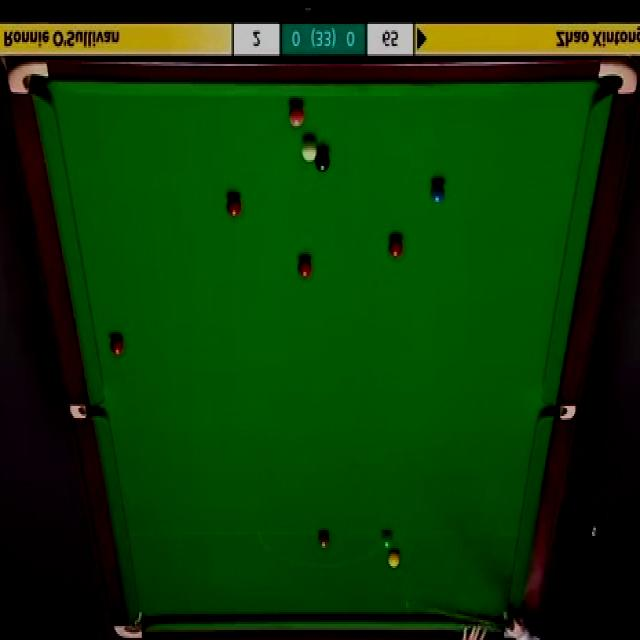pocket: (5, 58, 51, 97), (597, 57, 637, 100), (113, 612, 143, 640), (69, 403, 107, 420), (540, 405, 574, 420)
